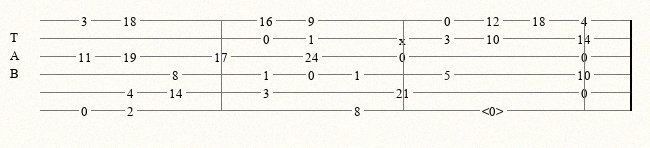0: (81, 104, 92, 117), (263, 32, 274, 45), (308, 68, 319, 81), (399, 50, 410, 63), (444, 14, 455, 27), (581, 50, 592, 63), (581, 86, 592, 99)
1: (263, 68, 274, 81), (308, 32, 319, 45), (354, 68, 365, 81)
10: (486, 32, 504, 45), (577, 68, 595, 81)
11: (78, 50, 96, 63)
12: (486, 14, 504, 27)
14: (169, 86, 187, 99), (577, 32, 595, 45)
16: (259, 14, 277, 27)
17: (214, 50, 232, 63)
18: (123, 14, 141, 27), (532, 14, 550, 27)
19: (123, 50, 141, 63)
2: (127, 104, 138, 117)
21: (396, 86, 414, 99)
24: (305, 50, 323, 63)
3: (81, 14, 92, 27), (263, 86, 274, 99), (444, 32, 455, 45)
4: (127, 86, 138, 99), (581, 14, 592, 27)
5: (444, 68, 455, 81)
8: (172, 68, 183, 81), (354, 104, 365, 117)
9: (308, 14, 319, 27)
harmonic: (482, 104, 508, 117)
x: (399, 33, 410, 43)
